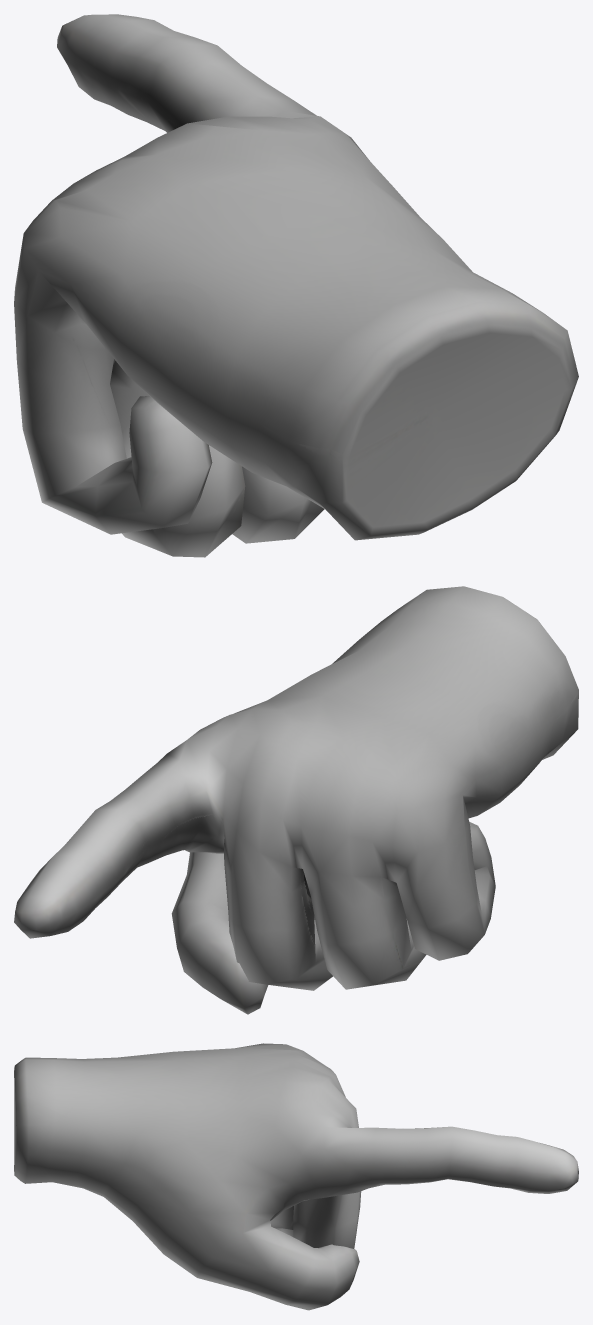
Rendered from GenericHandLeft.glb.
3 views of the same model, one above another, from view 1: azimuth 30°, elevation 25°; view 2: azimuth 150°, elevation 25°; view 3: azimuth 270°, elevation 25° (orthographic). The views are drawn at different scales.
Parts seen in each view (by area): view 1: HAND; view 2: HAND; view 3: HAND.
Part boxes in pixels (x1=…): HAND: x1=14, y1=14, x2=578, y2=557; HAND: x1=14, y1=586, x2=578, y2=1014; HAND: x1=14, y1=1043, x2=578, y2=1310.
Size of the model in its own units: 0.1333 by 0.1206 by 0.2861.
1 material, 1 textured.
